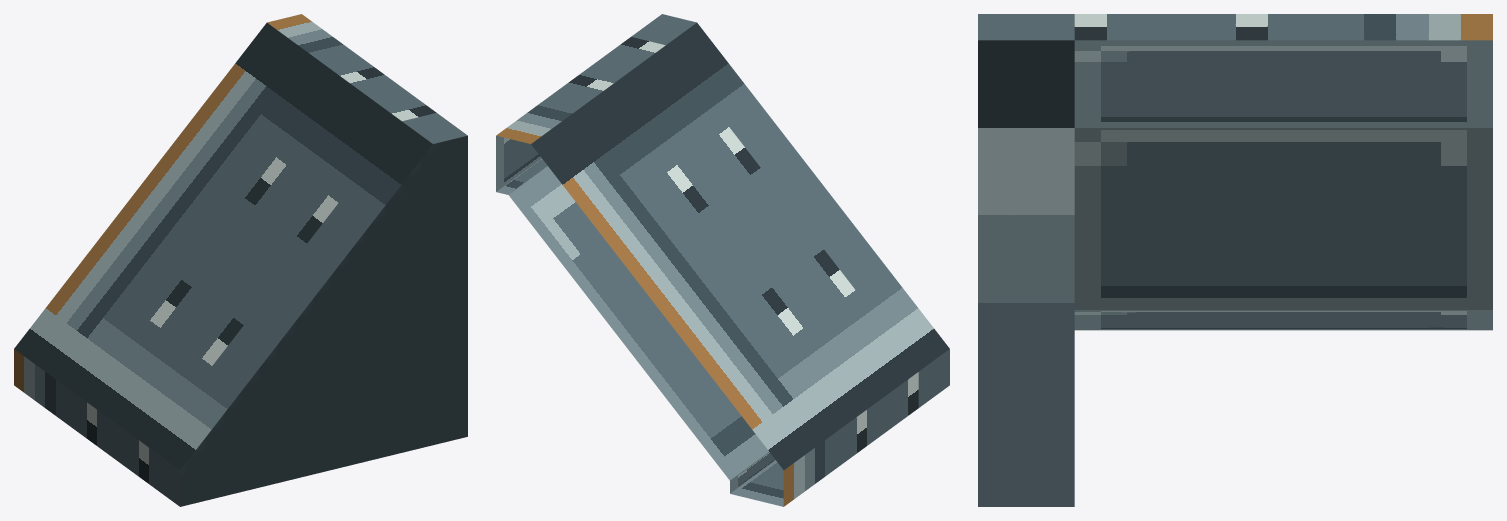
File: casing_d3_rear_x-1_y1.obj
3 renders of one model, left to right at view 1: azimuth 30°, elevation 25°; view 2: azimuth 150°, elevation 25°; view 3: azimuth 270°, elevation 25°, orthographic. The views are drawn at different scales.
Parts seen in each view (by area): view 1: d3_rear_x-1_y1; view 2: d3_rear_x-1_y1; view 3: d3_rear_x-1_y1.
Part boxes in pixels (x1,y1,x2,y2): d3_rear_x-1_y1: [14, 14, 467, 506]; d3_rear_x-1_y1: [496, 14, 949, 506]; d3_rear_x-1_y1: [978, 14, 1492, 506].
Size of the model in its own units: 1 by 1 by 1.
